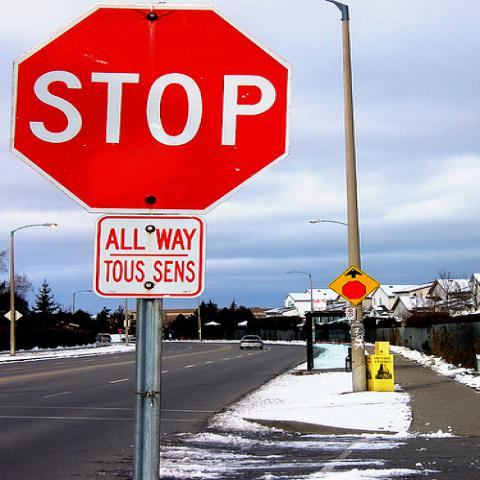car: (239, 336, 263, 349), (96, 334, 112, 342), (121, 335, 136, 342)
